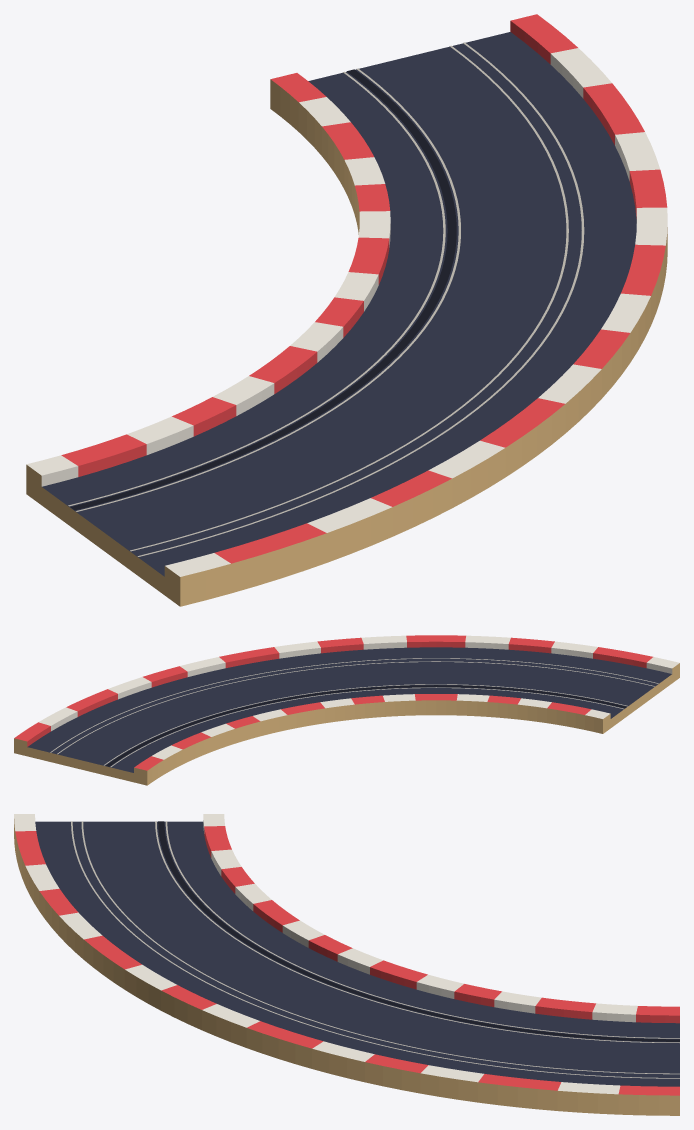
File: Track_2L_Curve90_R.fbx
3 renders of one model, top to bottom at view 1: azimuth 30°, elevation 25°; view 2: azimuth 150°, elevation 25°; view 3: azimuth 270°, elevation 25°, orthographic. The views are drawn at different scales.
Visible parts, largest first — view 1: Track_2L_Curve90_R; view 2: Track_2L_Curve90_R; view 3: Track_2L_Curve90_R.
Part boxes in pixels (x1,y1,x2,y2): Track_2L_Curve90_R: [26, 14, 667, 606]; Track_2L_Curve90_R: [14, 635, 679, 785]; Track_2L_Curve90_R: [14, 814, 679, 1115].
Bounding box in the file's own units: 9.5 × 0.32 × 9.5.
